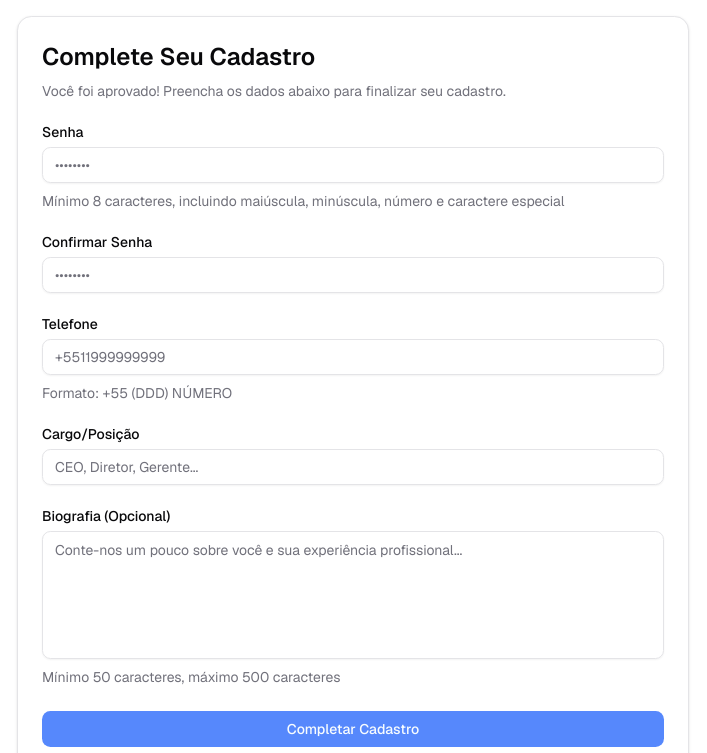
Test: RegisterPage › deve mostrar erro quando as senhas não coincidem
This screenshot has width=707, height=753.
Type "Senha@123" into the password field labelled "Senha" at (353, 165), box [42,147,664,183]
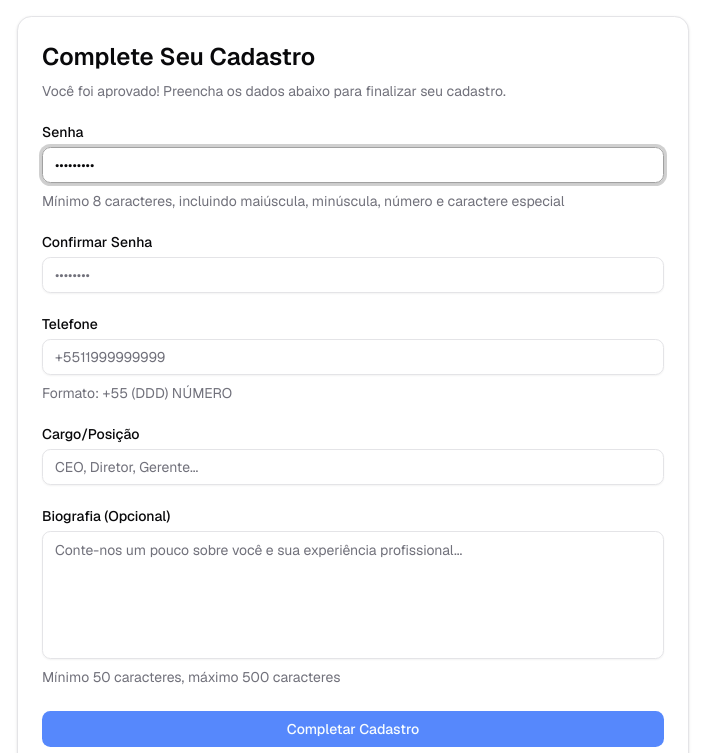
Type "Senha@456" into the password field labelled "Confirmar Senha" at (353, 275), box [42,257,664,293]
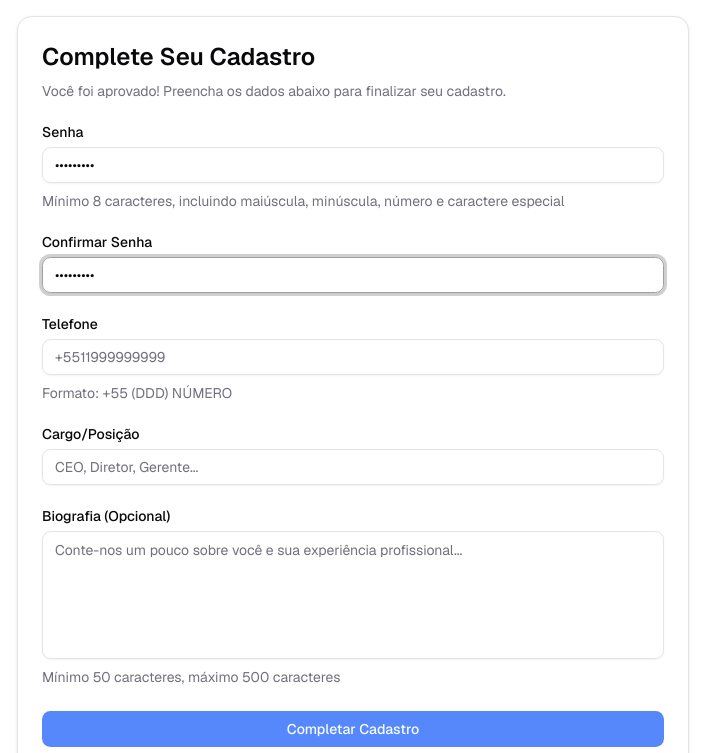
Click the button "Completar Cadastro" at (353, 729), box [42,711,664,747]
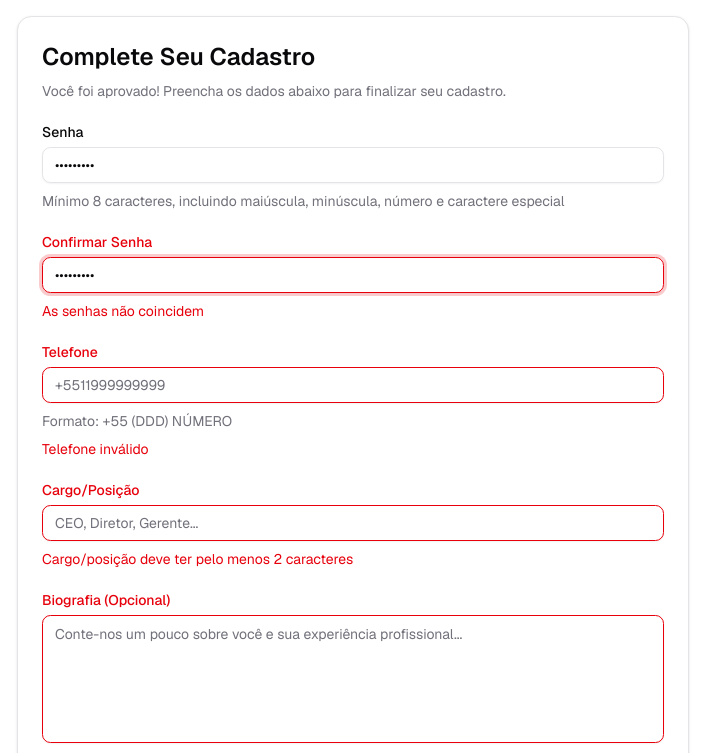
Result: the text "As senhas não coincidem" is shown at [42,302,204,320]
